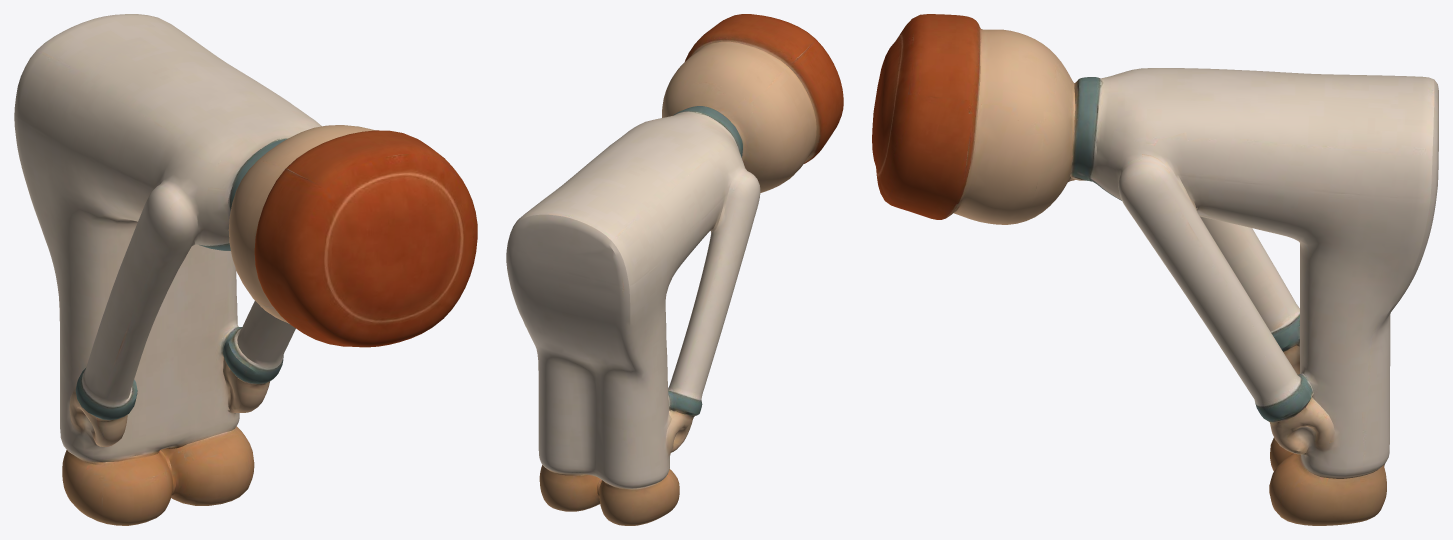
File: Meshy_AI_model.glb
The picture shows the model from 3 angles, left to right: view 1: azimuth 30°, elevation 25°; view 2: azimuth 150°, elevation 25°; view 3: azimuth 270°, elevation 25°; orthographic projection. The views are drawn at different scales.
Visible parts, largest first — view 1: Mesh0; view 2: Mesh0; view 3: Mesh0.
Boxes of the visible parts, box(x1,y1,x2,y2) form: Mesh0: box(14, 14, 477, 525); Mesh0: box(506, 14, 843, 525); Mesh0: box(872, 14, 1438, 525).
Bounding box in the file's own units: 0.743 × 1.72 × 1.9.
1 material, 1 textured.
